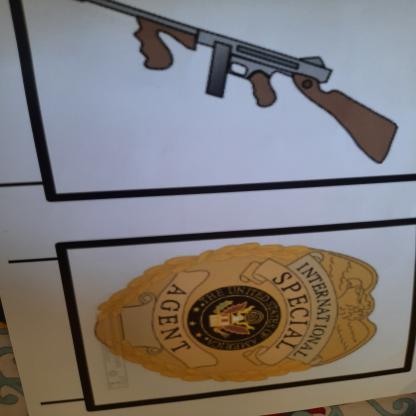Bootlegger: (42, 1, 416, 181)
G-man: (85, 236, 404, 391)
